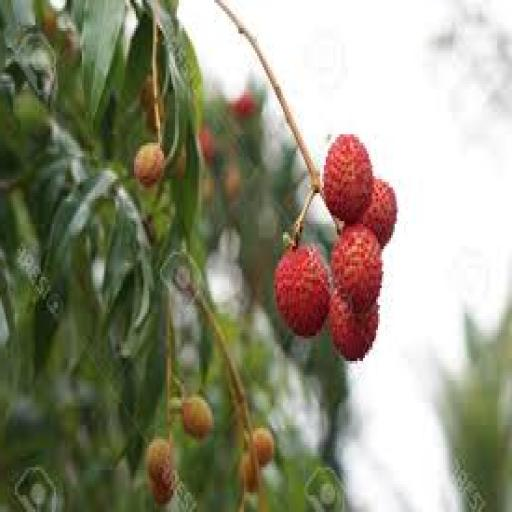lychee: (273, 247, 328, 338), (331, 224, 380, 313), (322, 135, 371, 223), (329, 289, 376, 360), (359, 180, 395, 246), (182, 395, 213, 439), (134, 143, 162, 187), (251, 429, 272, 467), (230, 93, 255, 120)
